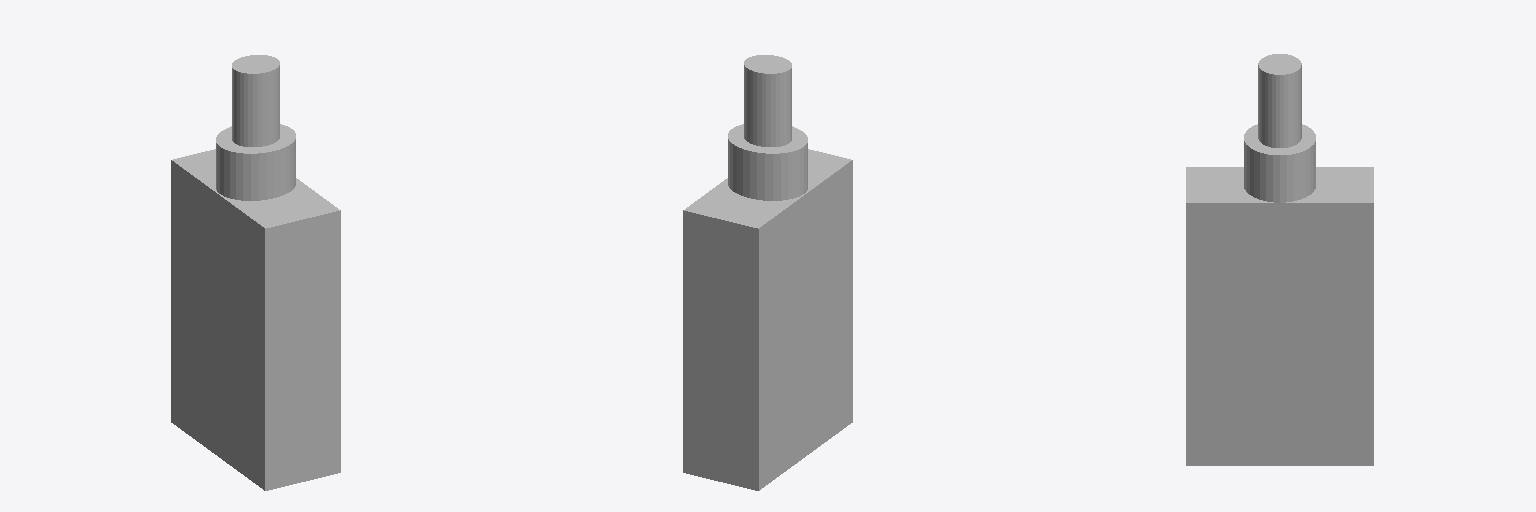
The model's file is elmers_washable_no_run_school_glue.obj.
3 views of the same model, side by side, from view 1: azimuth 30°, elevation 25°; view 2: azimuth 150°, elevation 25°; view 3: azimuth 270°, elevation 25° (orthographic).
Bounding box in the file's own units: 0.03 × 0.146 × 0.065.